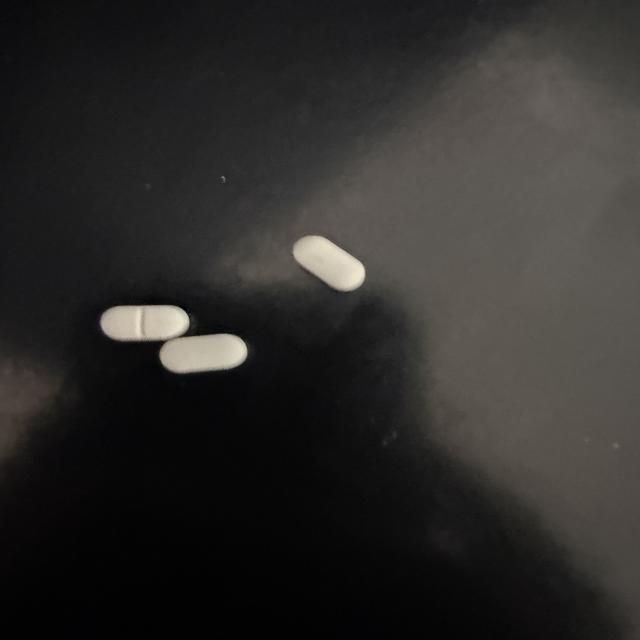pill: (293, 236, 365, 291), (160, 334, 247, 373), (100, 306, 189, 341)
